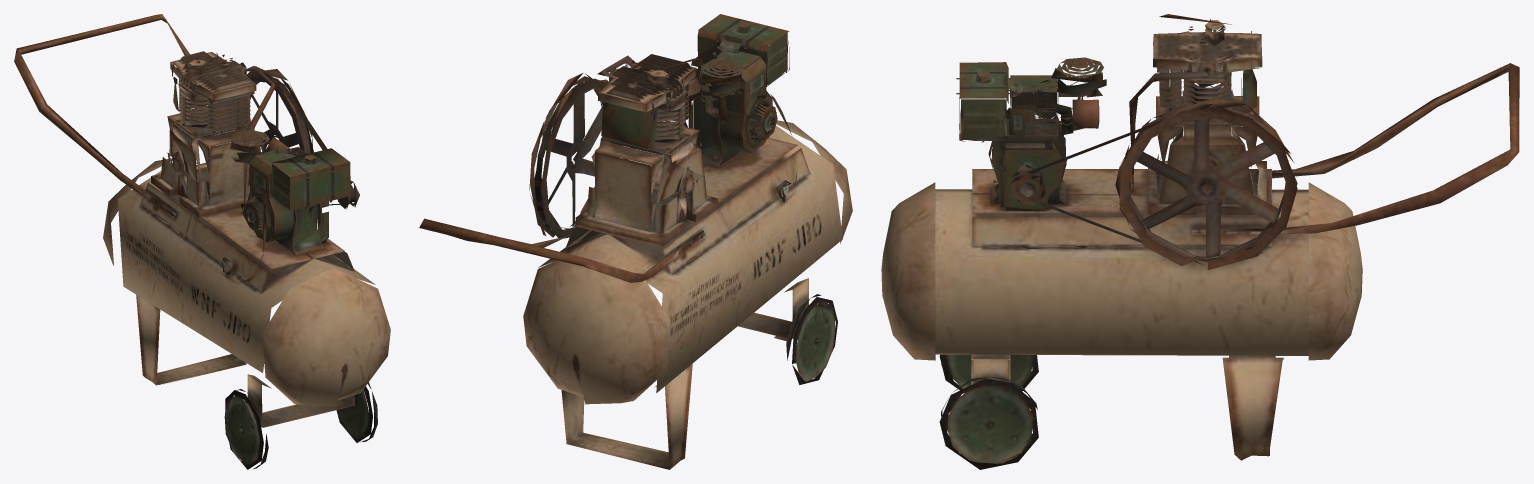
The model's file is compressor.glb.
3 renders of one model, left to right at view 1: azimuth 30°, elevation 25°; view 2: azimuth 150°, elevation 25°; view 3: azimuth 270°, elevation 25°, orthographic. The views are drawn at different scales.
Parts seen in each view (by area): view 1: compressor; view 2: compressor; view 3: compressor.
Part boxes in pixels (left/top/right/bottom): compressor: left=14, top=14, right=390, bottom=469; compressor: left=419, top=14, right=852, bottom=469; compressor: left=881, top=14, right=1519, bottom=469.
Bounding box in the file's own units: 0.5962 × 1.18 × 1.67.
2 materials, 2 textured.
